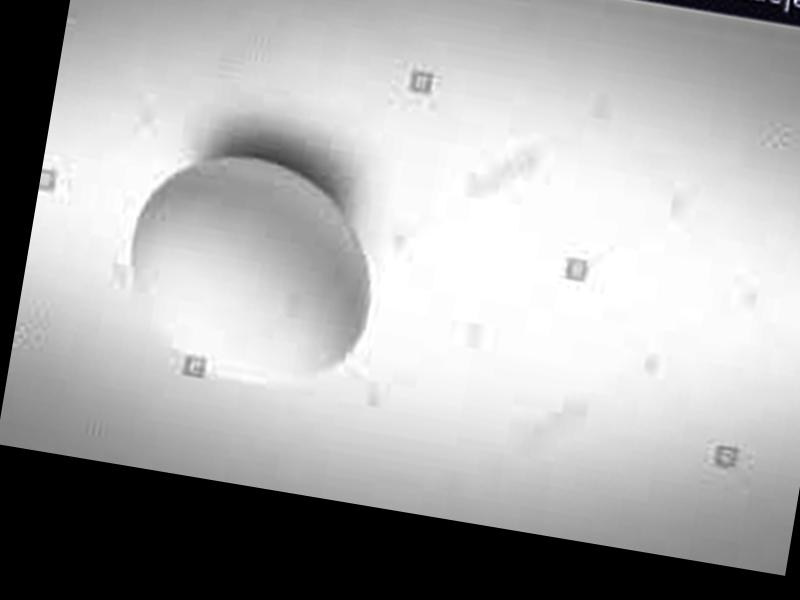Eggs: (110, 139, 387, 396)
